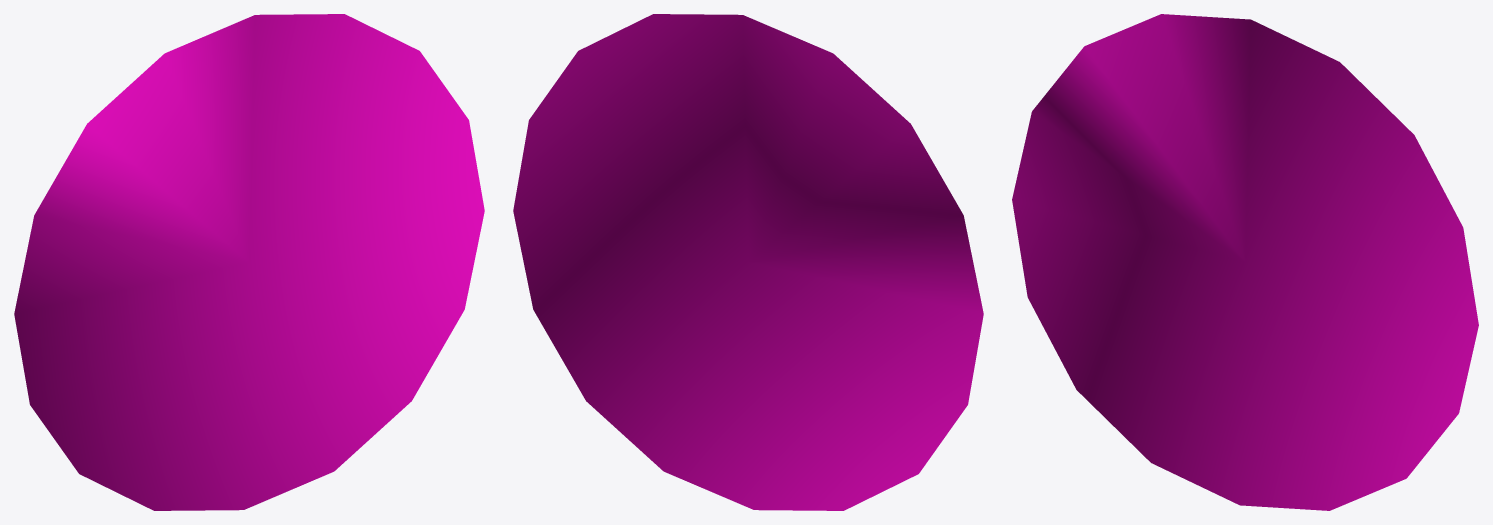
File: emojiframe.fbx
3 renders of one model, left to right at view 1: azimuth 30°, elevation 25°; view 2: azimuth 150°, elevation 25°; view 3: azimuth 330°, elevation 25°, orthographic.
Parts seen in each view (by area): view 1: wall_outlet_lo.001; view 2: wall_outlet_lo.001; view 3: wall_outlet_lo.001.
Part boxes in pixels (left/top/right/bottom): wall_outlet_lo.001: left=14, top=14, right=484, bottom=510; wall_outlet_lo.001: left=513, top=14, right=983, bottom=510; wall_outlet_lo.001: left=1012, top=14, right=1478, bottom=510.
Bounding box in the file's own units: 73.83 × 73.83 × 3.05e-05.
